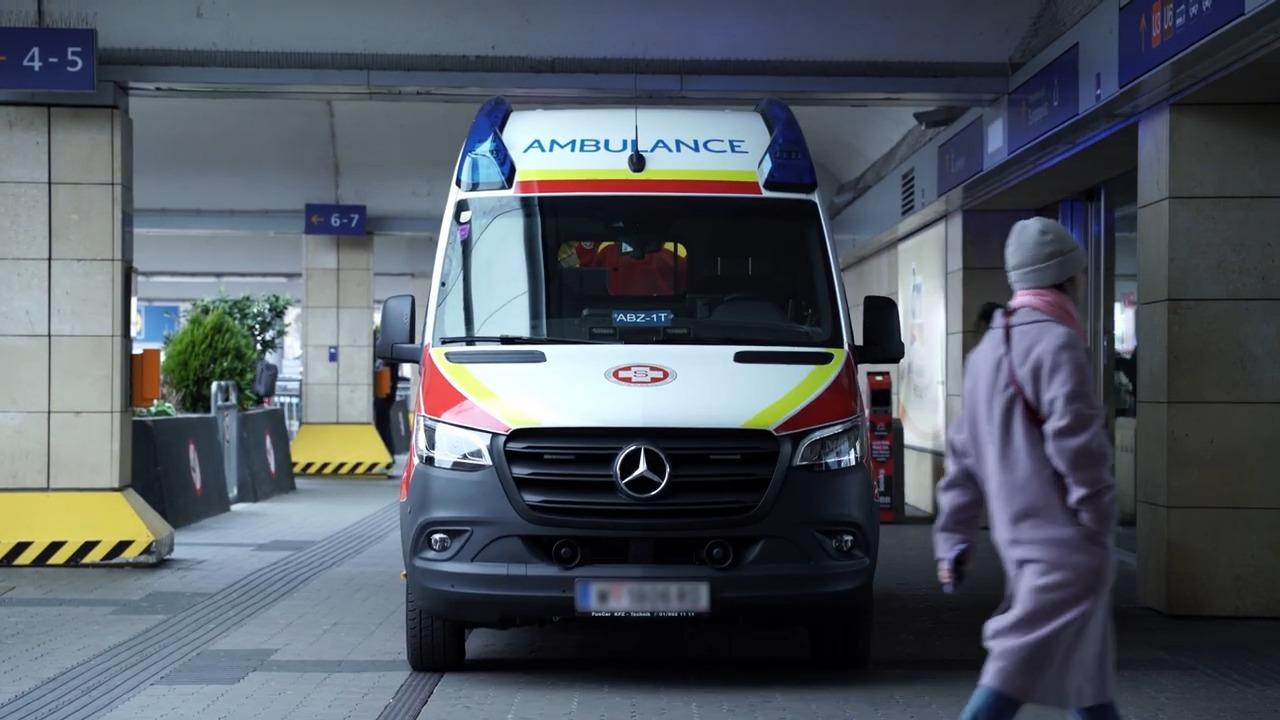car: (377, 92, 905, 674)
